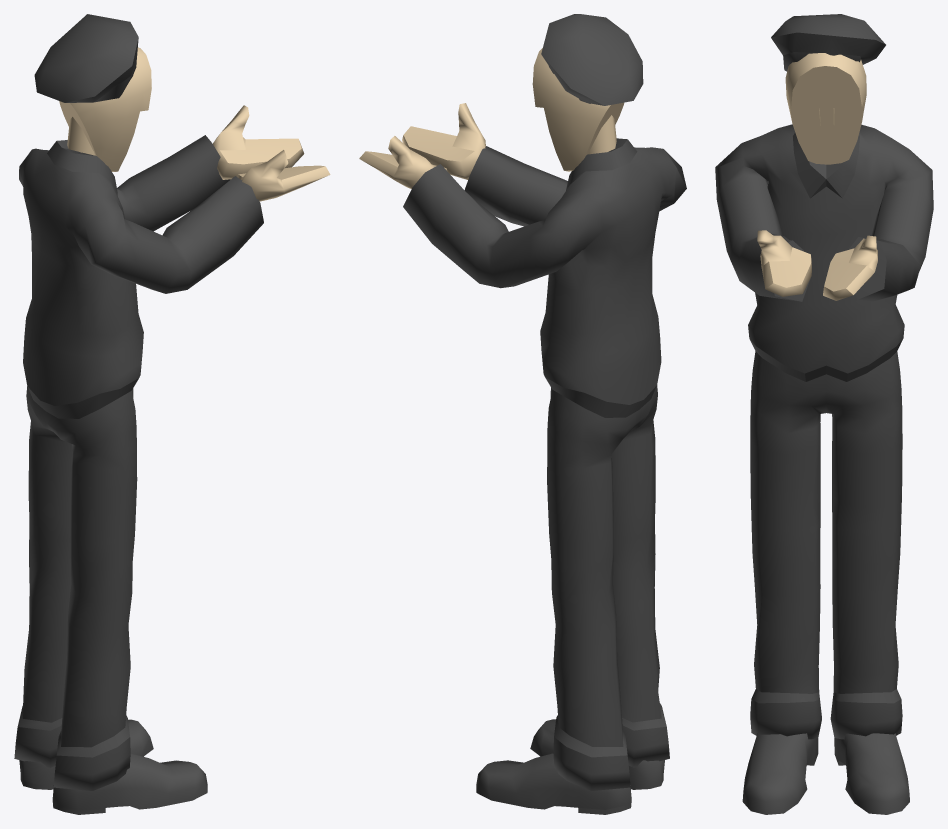
Rendered from mesh_BarracksPrisonerHands.fbx.
3 views of the same model, side by side, from view 1: azimuth 30°, elevation 25°; view 2: azimuth 150°, elevation 25°; view 3: azimuth 270°, elevation 25° (orthographic).
Parts seen in each view (by area): view 1: figure_prisoner_hands; view 2: figure_prisoner_hands; view 3: figure_prisoner_hands.
Boxes of the visible parts, <box> form: figure_prisoner_hands: <box>14,14,330,814</box>; figure_prisoner_hands: <box>359,14,686,814</box>; figure_prisoner_hands: <box>715,14,933,814</box>.
Size of the model in its own units: 37.59 by 98.34 by 25.48.
